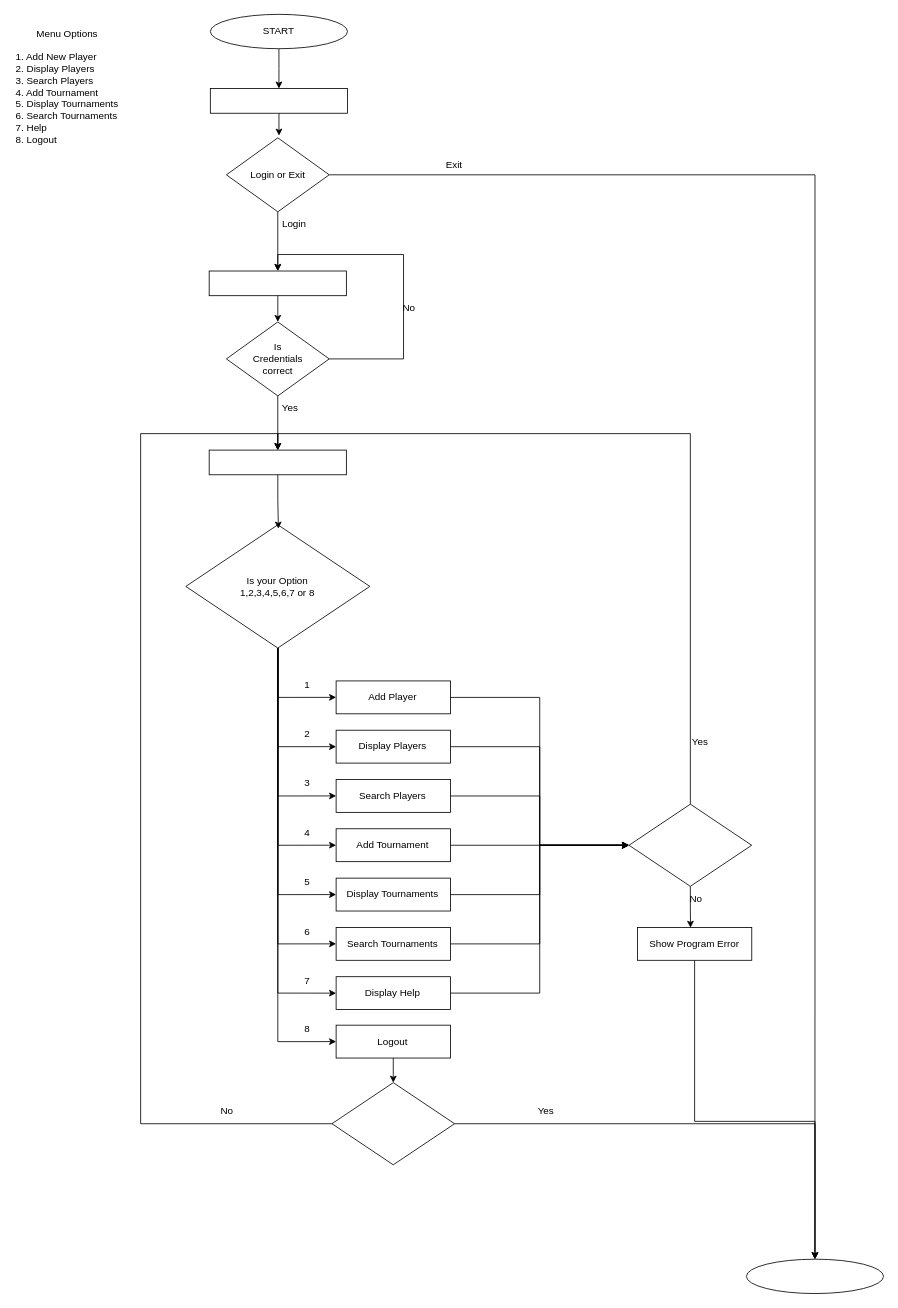
Some shapes in this 898 by 1308 pixel diagram are drawn without their labels. Each missing label, with the box of its shape:
Are you sure ?: (331, 1082, 455, 1165)
Exit Program (END): (746, 1258, 884, 1294)
Is the task over successfully ?: (628, 803, 752, 886)
login Process: (208, 270, 346, 296)
login Screen: (210, 88, 348, 113)
Main Menu: (208, 449, 346, 475)
